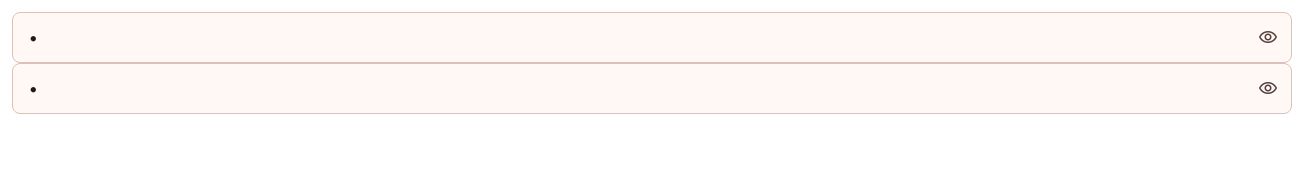
Test: CampoPassword › cada instancia abre y cierra por su cuenta
What coordinates should you click on to do the following:
click the button named "Mostrar nueva"
I would click on:
 (1268, 37)
Its box is [1244,12,1292,63].
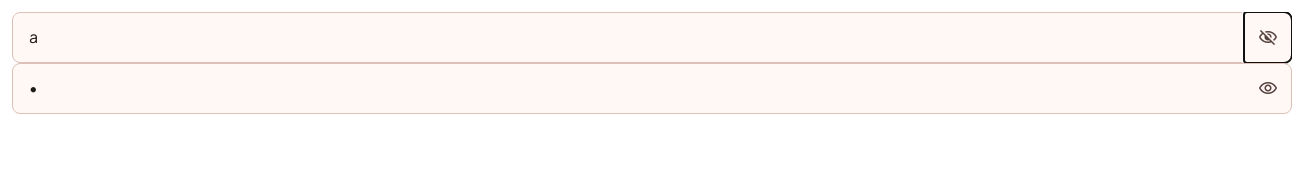
Expected: the field named "Nueva" shows its text, [12,12,1292,63]
